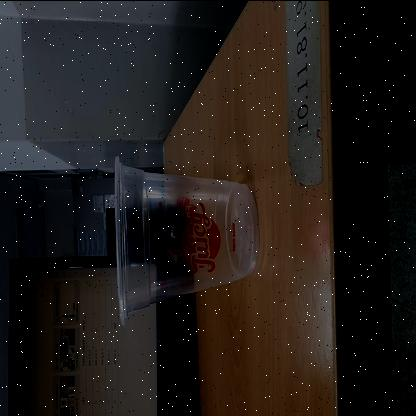Others: (114, 156, 258, 326)
